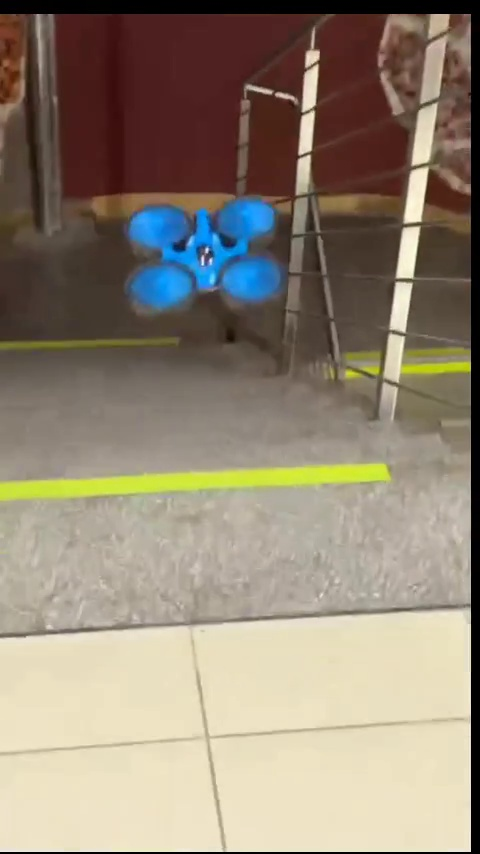drone: (124, 201, 290, 308)
